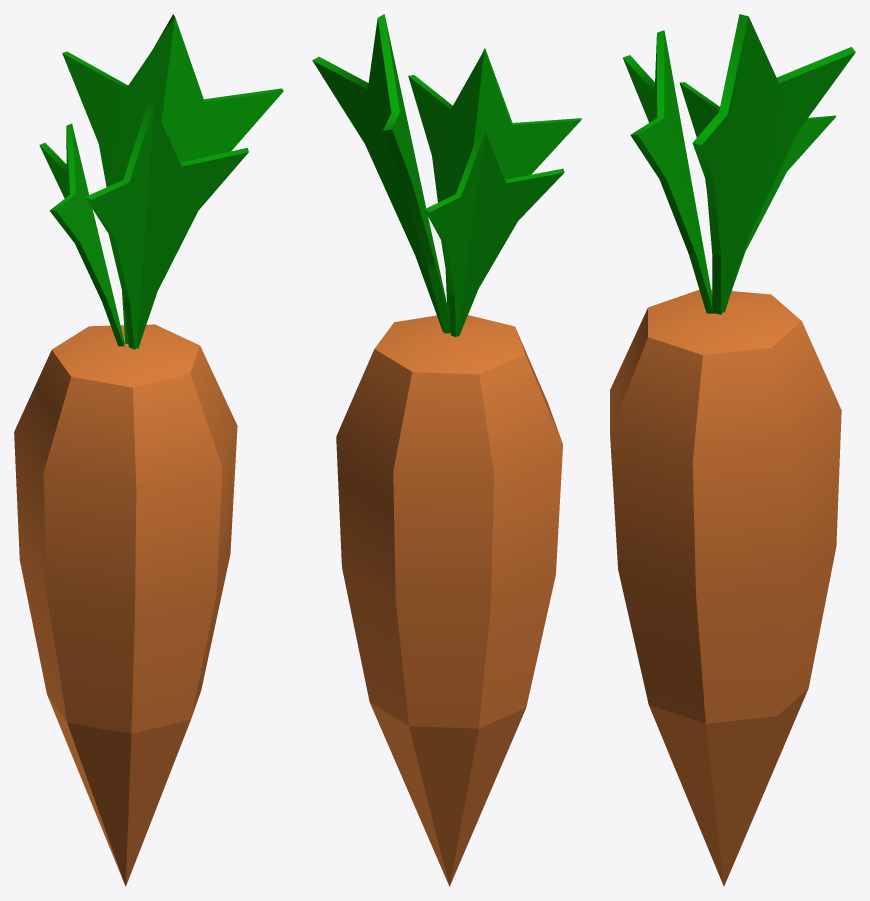
File: carrot.glb
3 views of the same model, side by side, from view 1: azimuth 30°, elevation 25°; view 2: azimuth 150°, elevation 25°; view 3: azimuth 270°, elevation 25° (orthographic). The views are drawn at different scales.
Parts seen in each view (by area): view 1: Carrot1; view 2: Carrot1; view 3: Carrot1.
Part boxes in pixels (bbox=[...]): Carrot1: bbox=[14, 14, 283, 886]; Carrot1: bbox=[312, 14, 581, 886]; Carrot1: bbox=[610, 14, 855, 886].
Bounding box in the file's own units: 2.17 × 7.27 × 1.79.
